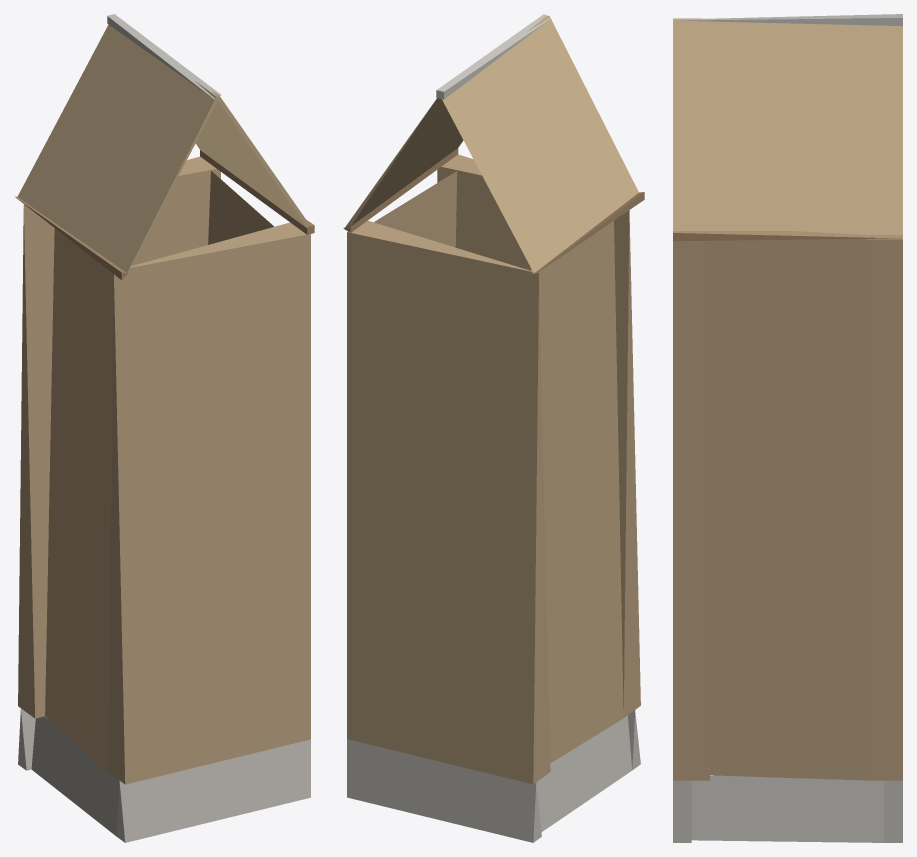
The model's file is 18-Casas_casa_completa_ejemplo.glb.
3 renders of one model, left to right at view 1: azimuth 30°, elevation 25°; view 2: azimuth 150°, elevation 25°; view 3: azimuth 270°, elevation 25°, orthographic. The views are drawn at different scales.
Parts seen in each view (by area): view 1: SM_Casa_M_Casa_Pared, SM_Casa_M_Casa_Tablero, SM_Casa_M_Casa_Piedra, SM_Casa_M_Casa_MaderaMed, SM_Casa_M_Casa_MaderaOsc; view 2: SM_Casa_M_Casa_Pared, SM_Casa_M_Casa_Tablero, SM_Casa_M_Casa_Piedra, SM_Casa_M_Casa_MaderaMed, SM_Casa_M_Casa_MaderaOsc; view 3: SM_Casa_M_Casa_Pared, SM_Casa_M_Casa_Tablero, SM_Casa_M_Casa_Piedra, SM_Casa_M_Casa_MaderaMed, SM_Casa_M_Casa_MaderaOsc.
Part boxes in pixels (left/top/right/bottom): SM_Casa_M_Casa_Pared: left=18, top=156, right=310, bottom=784; SM_Casa_M_Casa_Tablero: left=17, top=24, right=310, bottom=272; SM_Casa_M_Casa_Piedra: left=18, top=708, right=310, bottom=842; SM_Casa_M_Casa_MaderaMed: left=15, top=150, right=314, bottom=279; SM_Casa_M_Casa_MaderaOsc: left=107, top=14, right=221, bottom=99; SM_Casa_M_Casa_Pared: left=347, top=154, right=640, bottom=784; SM_Casa_M_Casa_Tablero: left=345, top=15, right=638, bottom=272; SM_Casa_M_Casa_Piedra: left=347, top=710, right=640, bottom=842; SM_Casa_M_Casa_MaderaMed: left=343, top=148, right=644, bottom=273; SM_Casa_M_Casa_MaderaOsc: left=436, top=14, right=550, bottom=99; SM_Casa_M_Casa_Pared: left=673, top=238, right=902, bottom=780; SM_Casa_M_Casa_Tablero: left=673, top=18, right=902, bottom=234; SM_Casa_M_Casa_Piedra: left=673, top=775, right=902, bottom=842; SM_Casa_M_Casa_MaderaMed: left=673, top=231, right=902, bottom=241; SM_Casa_M_Casa_MaderaOsc: left=673, top=14, right=902, bottom=26.
Size of the model in its own units: 1.04 by 3.74 by 1.
